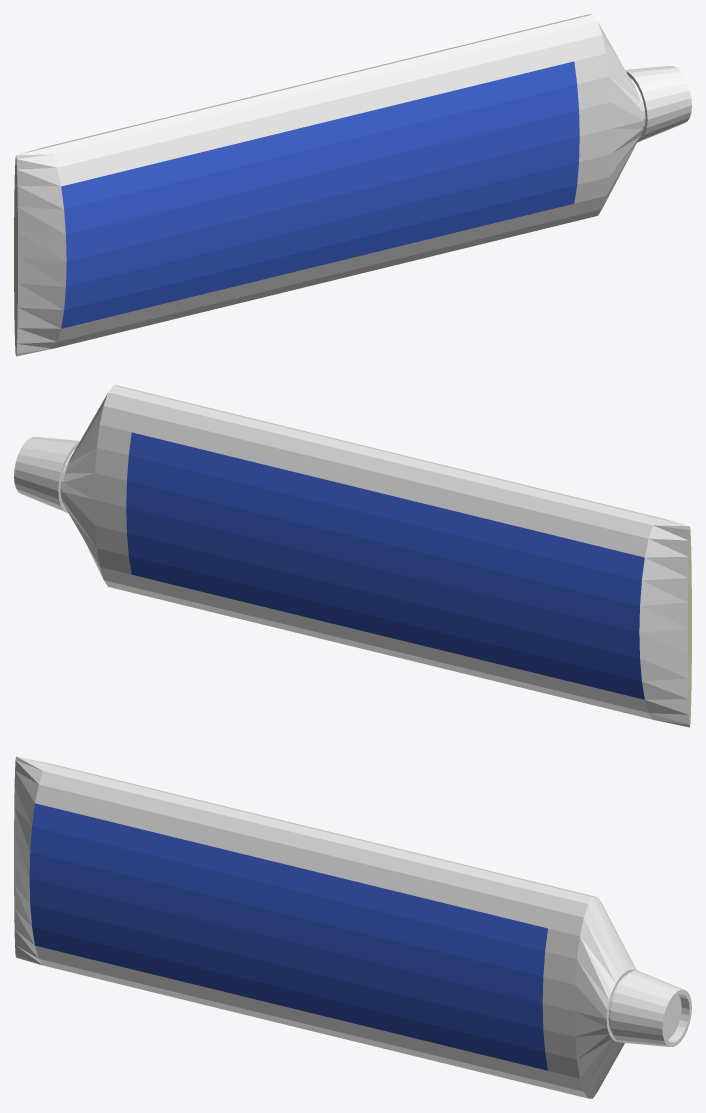
3 renders of one model, top to bottom at view 1: azimuth 30°, elevation 25°; view 2: azimuth 150°, elevation 25°; view 3: azimuth 330°, elevation 25°, orthographic.
Visible parts, largest first — view 1: toothpaste; view 2: toothpaste; view 3: toothpaste.
Boxes of the visible parts, x1,y1,x2,y2 form: toothpaste: (14, 14, 691, 356); toothpaste: (14, 385, 691, 727); toothpaste: (14, 756, 691, 1098).
Bounding box in the file's own units: 10.31 × 3 × 1.
